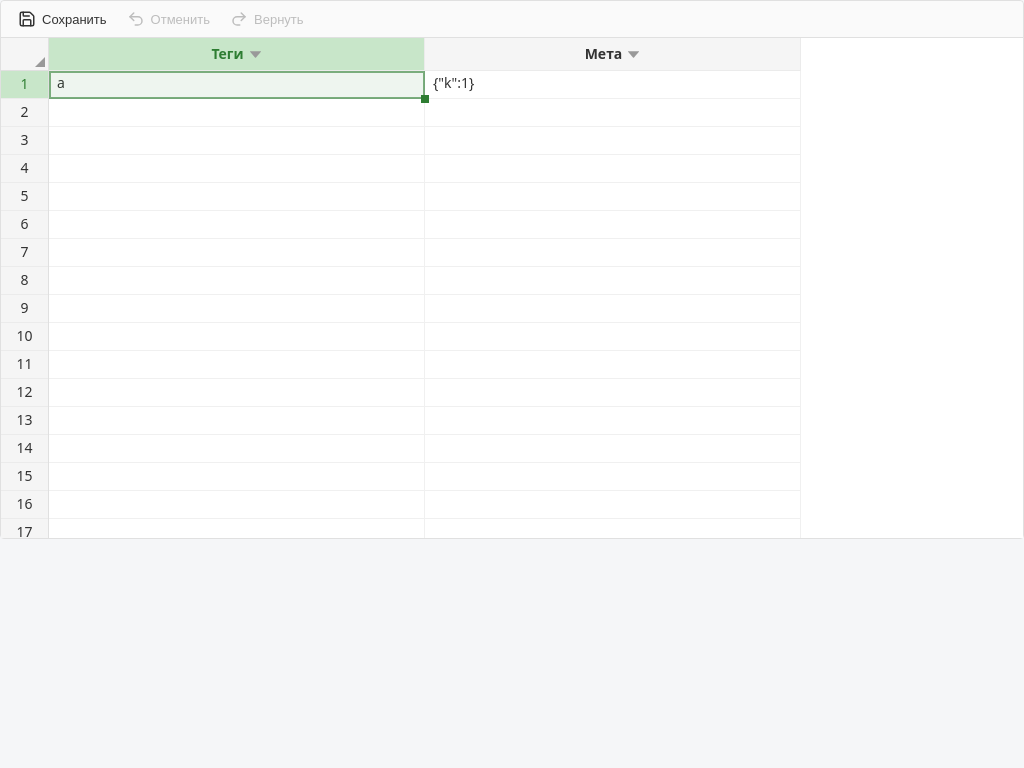
Test case: NativeTable: позиционирование array/json-редакторов › json-редактор не выходит за нижний/правый край вьюпорта
The image size is (1024, 768).
Double-click the element showing "{\"k\":1}": (613, 85) x1=425 y1=71 x2=801 y2=99
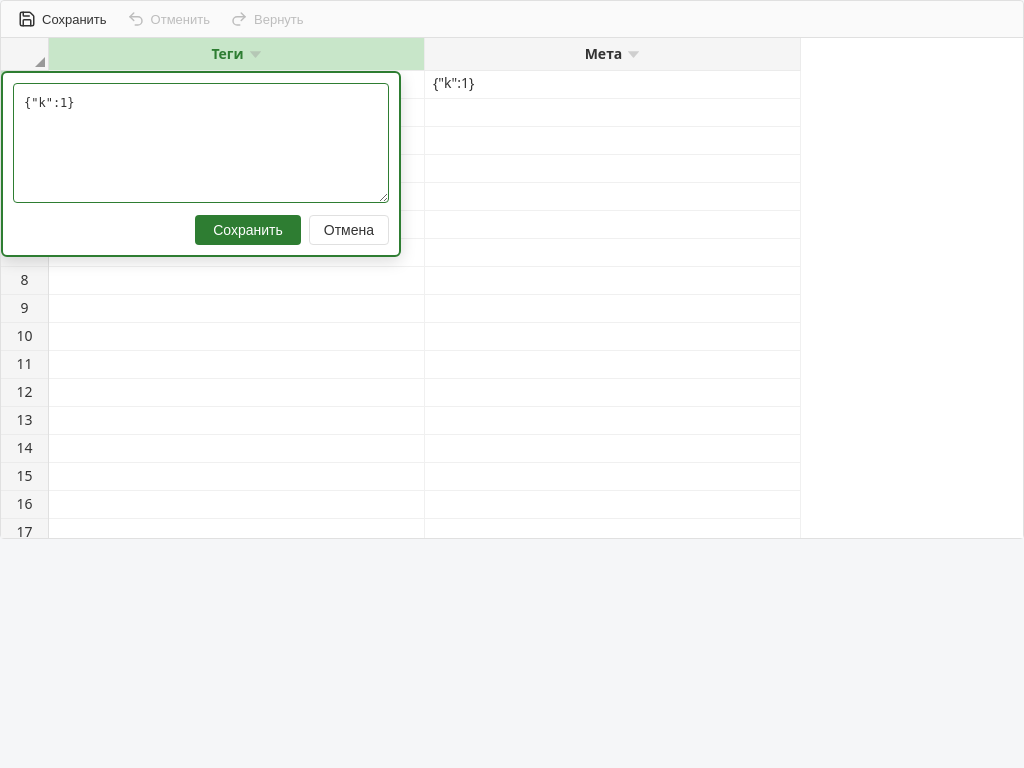
Check: the element with class "nt-editor--json" is shown, box x1=1 y1=71 x2=401 y2=257
